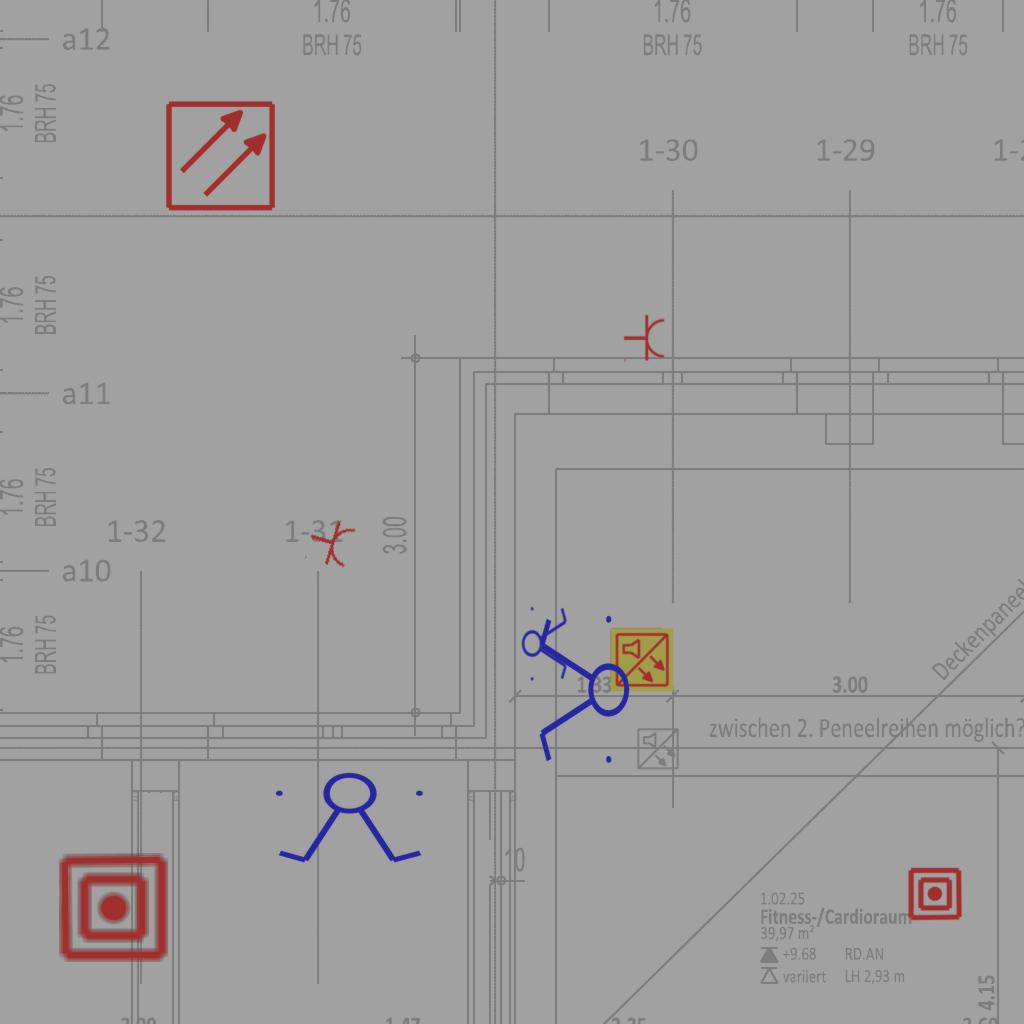NAM-Nichtautomatischer_Melder: (57, 851, 170, 964), (907, 866, 963, 922)
OKW_Multisensormelder_(Kombination_optischer_Rauch-Kahlenmonoxid_Waerme-Melder): (609, 627, 675, 693)
RMO_Rauchmelder_optischer: (164, 99, 277, 212)
Schukosteckdose_einfach: (302, 512, 359, 574), (623, 314, 666, 364)
Serienschalter: (267, 771, 435, 867), (535, 607, 631, 775), (521, 601, 569, 685)
